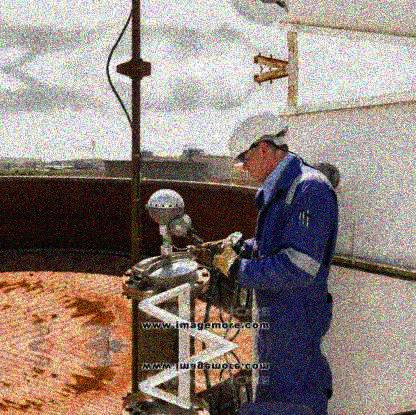helmet: (226, 112, 290, 180)
